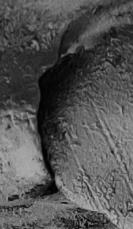crack: (0, 1, 133, 229)
